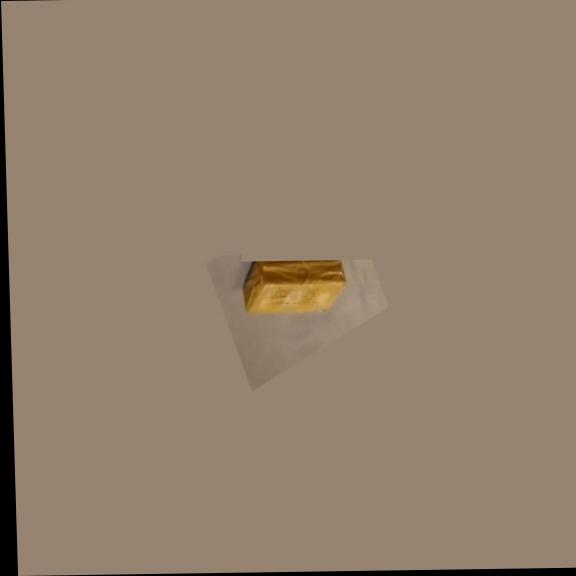Kertas: (244, 263, 345, 313)
